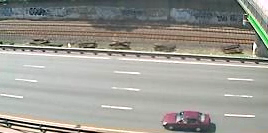car: (160, 108, 212, 133)
